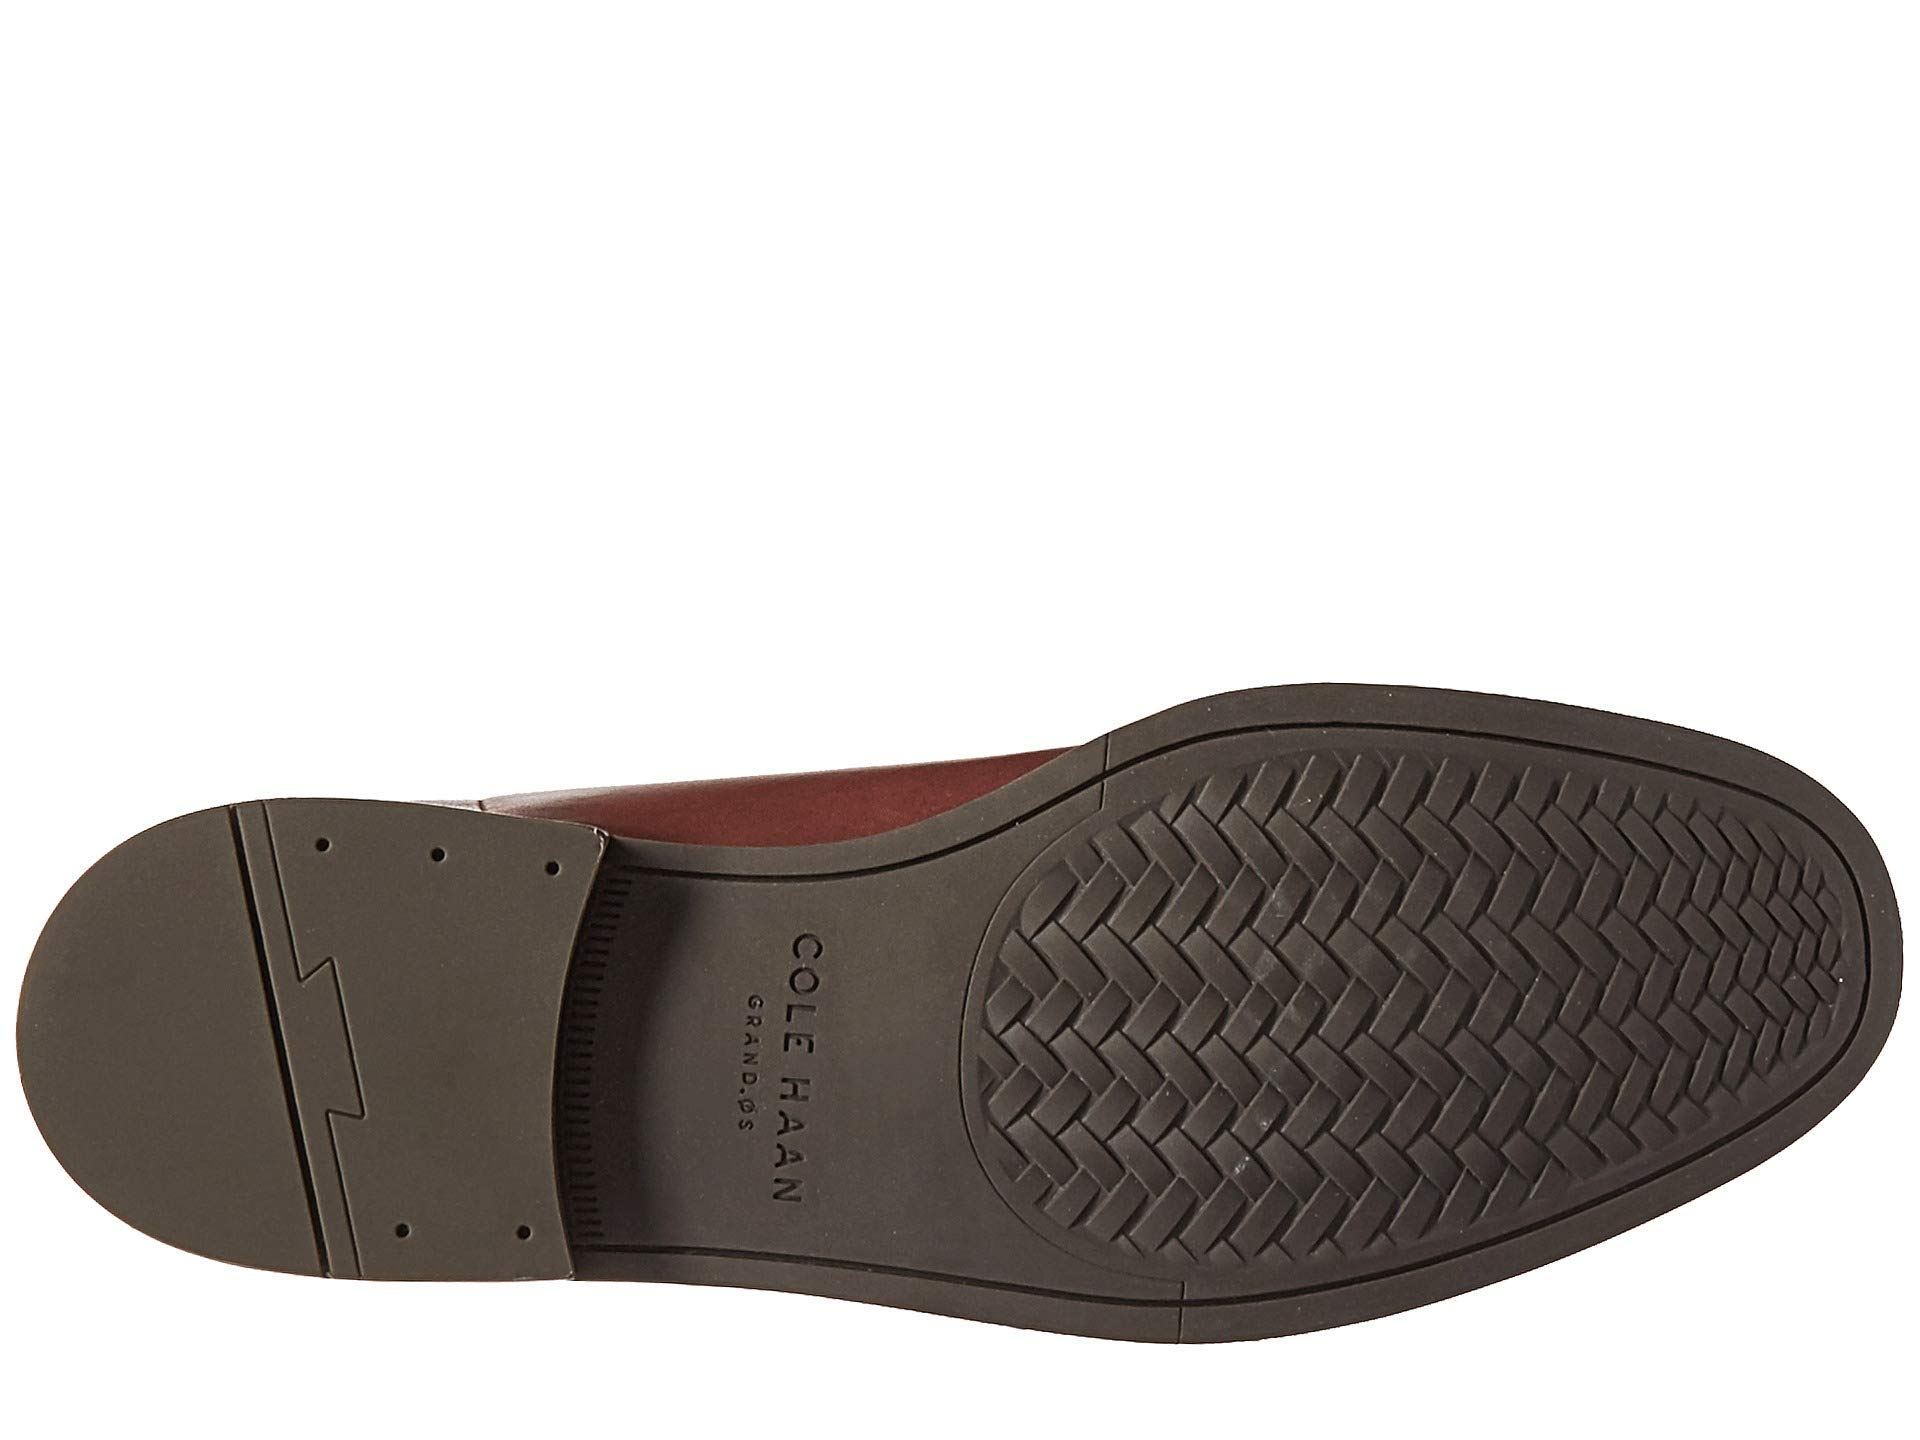chevron: (1200, 794, 1569, 1165)
quad: (1200, 794, 1569, 1165)
